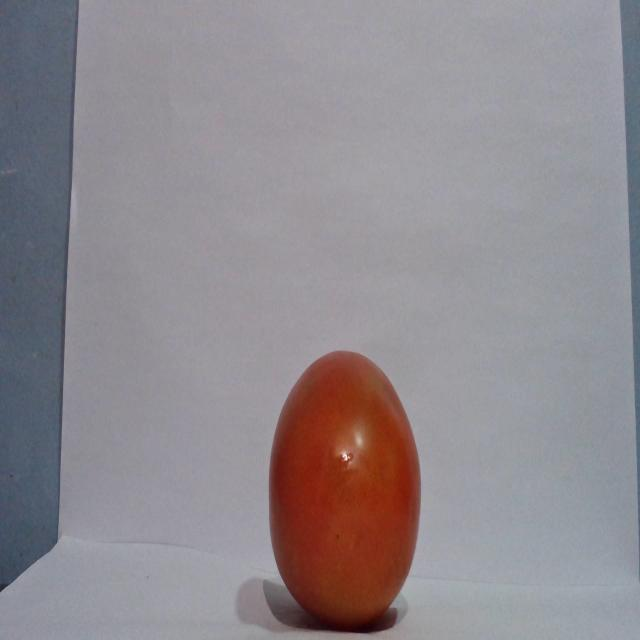Red: (266, 348, 422, 629)
